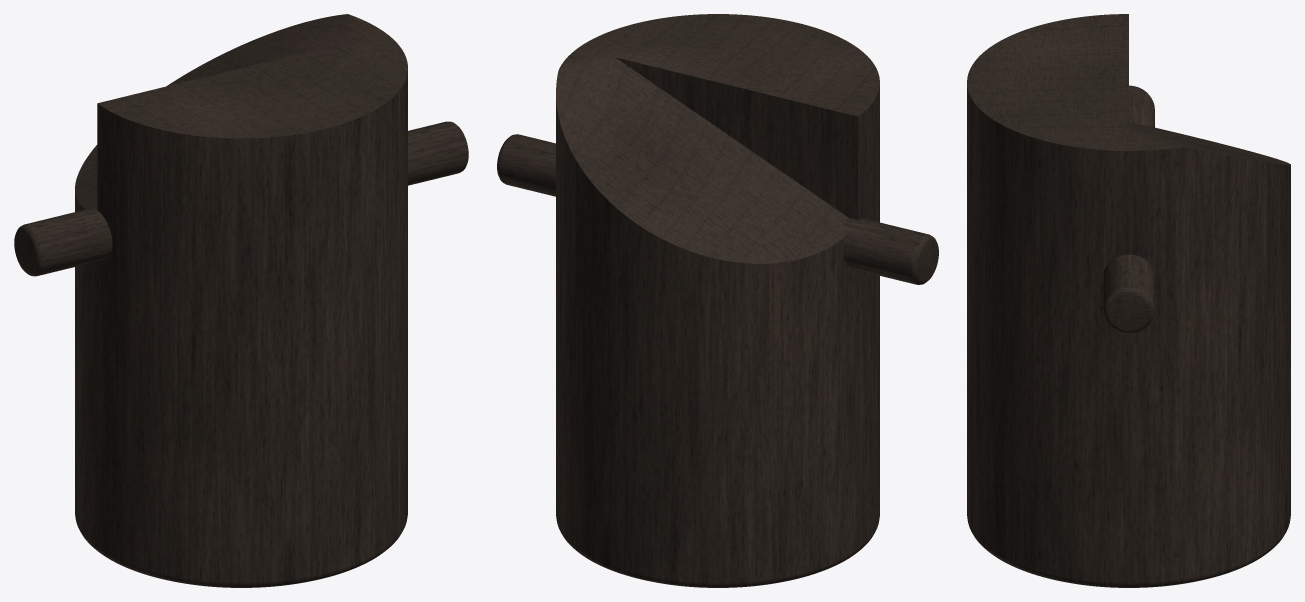
File: knight-black.glb
The picture shows the model from 3 angles, left to right: view 1: azimuth 30°, elevation 25°; view 2: azimuth 150°, elevation 25°; view 3: azimuth 270°, elevation 25°; orthographic projection. The views are drawn at different scales.
Parts seen in each view (by area): view 1: Cylindra_Jezdec_černý; view 2: Cylindra_Jezdec_černý; view 3: Cylindra_Jezdec_černý.
Part boxes in pixels (bbox=[...]): Cylindra_Jezdec_černý: bbox=[14, 14, 468, 587]; Cylindra_Jezdec_černý: bbox=[497, 14, 938, 587]; Cylindra_Jezdec_černý: bbox=[967, 14, 1290, 587].
Size of the model in its own units: 0.8 by 0.8 by 0.5334.
2 materials, 2 textured.
